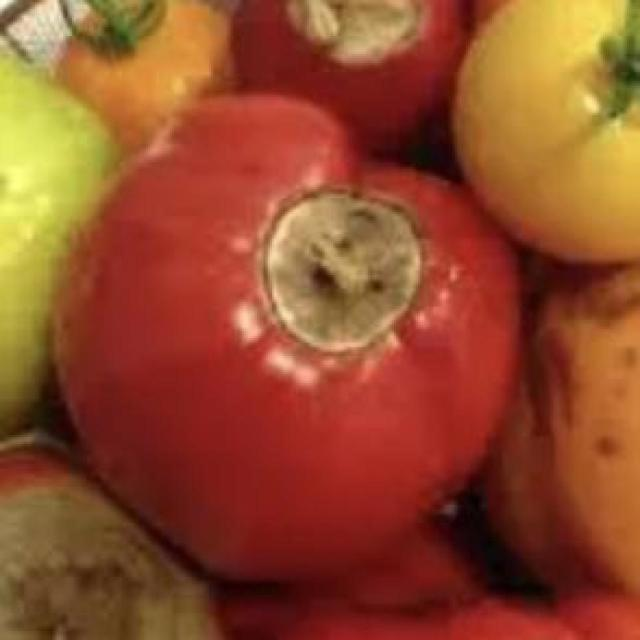Blossom End Rot Fruit: (66, 21, 232, 376)
